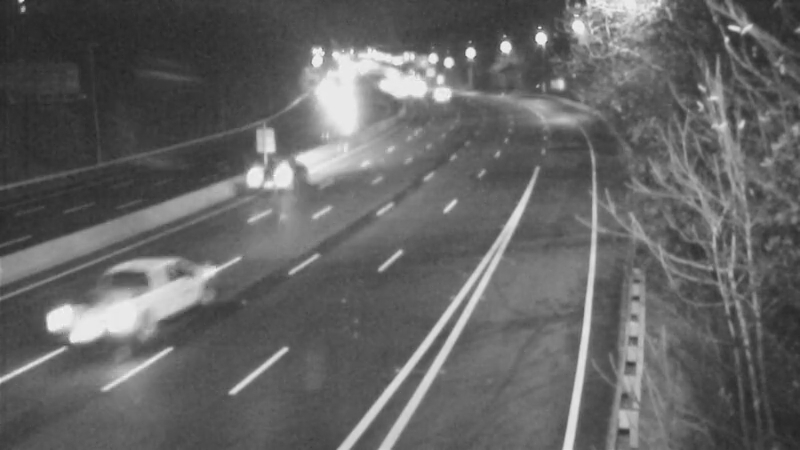vehicle: (36, 266, 146, 376), (234, 134, 314, 214), (412, 67, 462, 117), (372, 62, 422, 112), (315, 88, 365, 138)
